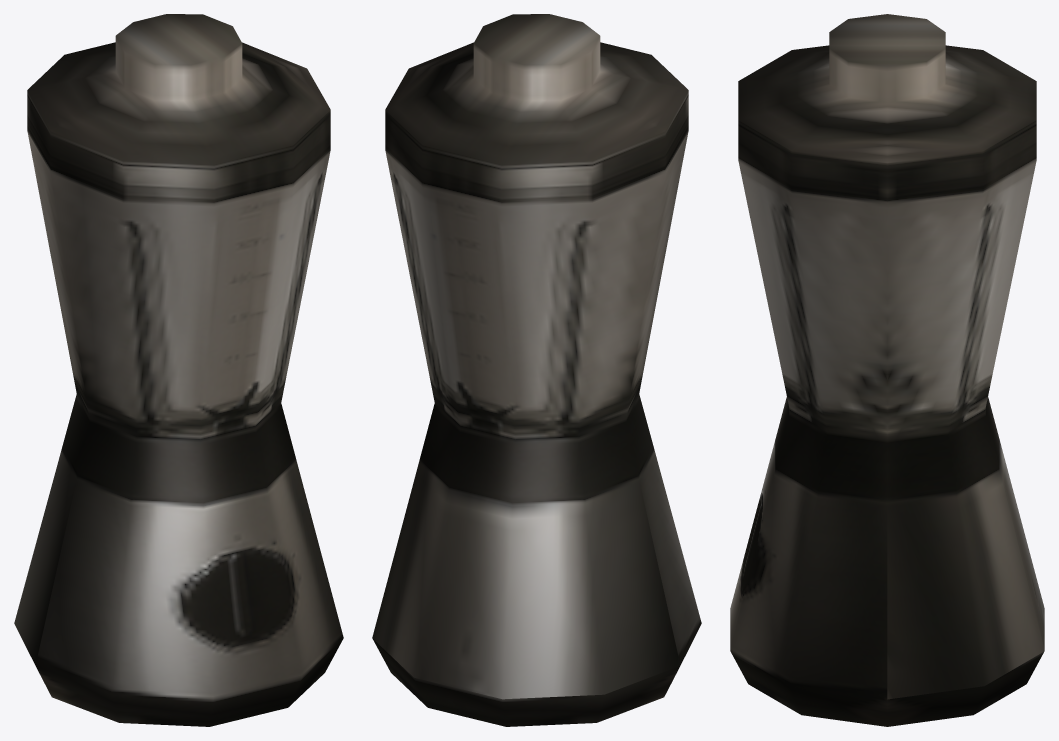
The model's file is blender.glb.
3 views of the same model, side by side, from view 1: azimuth 30°, elevation 25°; view 2: azimuth 150°, elevation 25°; view 3: azimuth 270°, elevation 25° (orthographic).
Visible parts, largest first — view 1: blender?XD_atlas_kitchen_0; view 2: blender?XD_atlas_kitchen_0; view 3: blender?XD_atlas_kitchen_0.
Boxes of the visible parts, x1,y1,x2,y2 form: blender?XD_atlas_kitchen_0: (14,14,343,726); blender?XD_atlas_kitchen_0: (372,14,701,726); blender?XD_atlas_kitchen_0: (730,14,1044,726).
Bounding box in the file's own units: 0.3722 × 0.777 × 0.354.
1 material, 1 textured.
